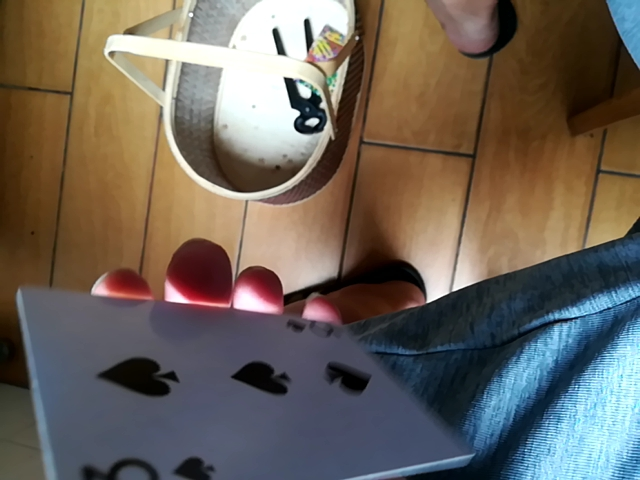ht 3: (21, 289, 478, 478)
